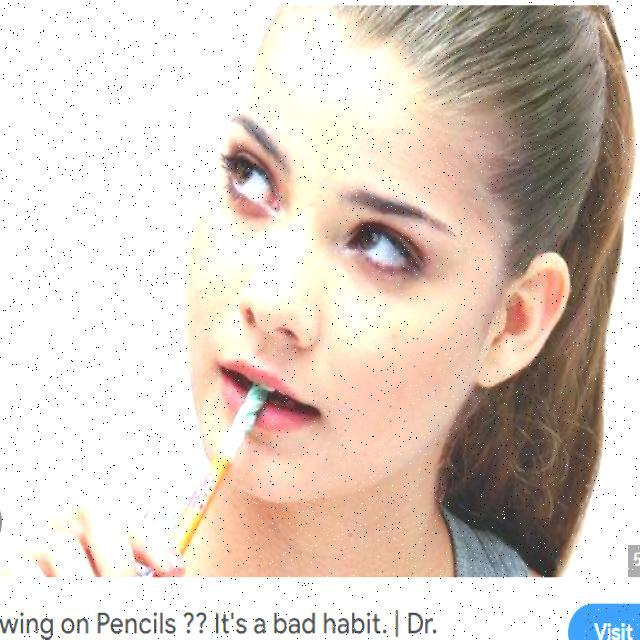face_no_mask: (181, 22, 571, 510)
